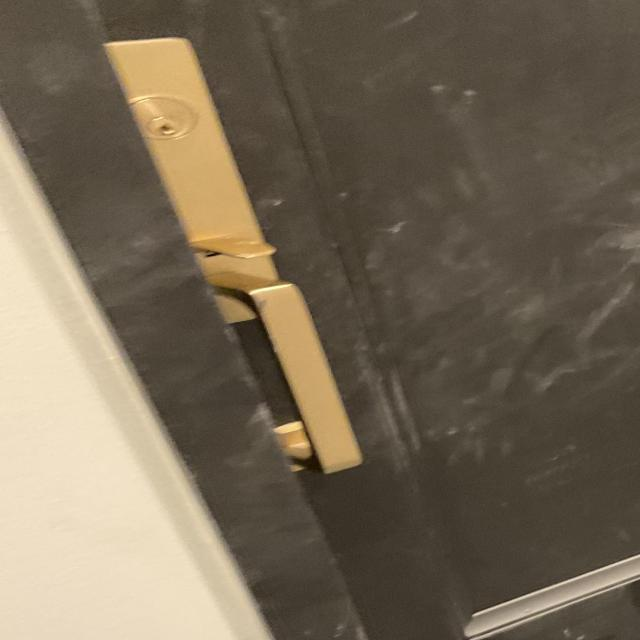door_handle: (192, 271, 386, 481)
